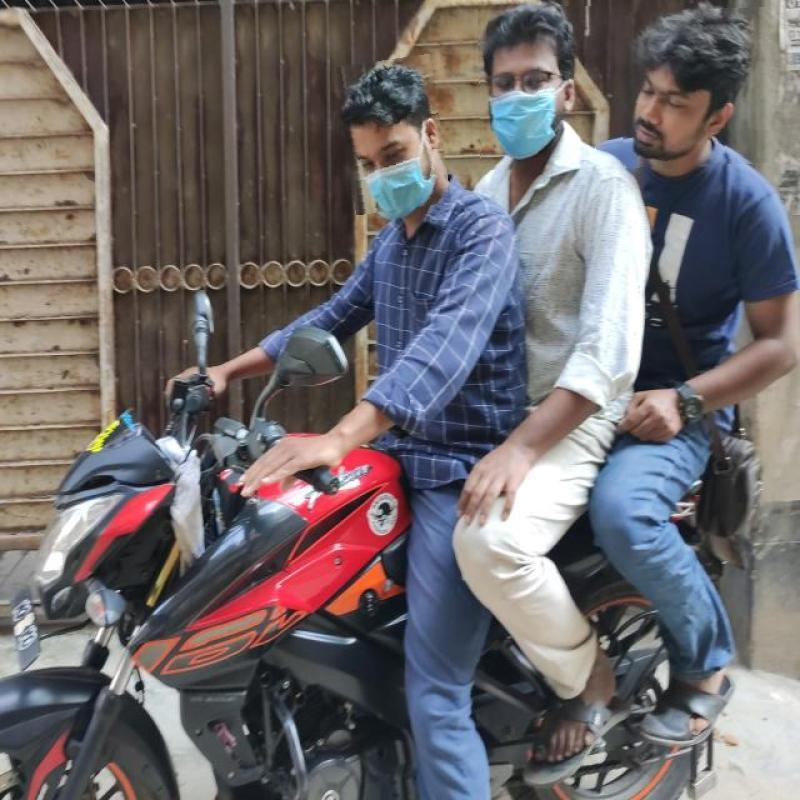nohelmet: (620, 9, 772, 167), (479, 5, 596, 164), (342, 58, 446, 212)
